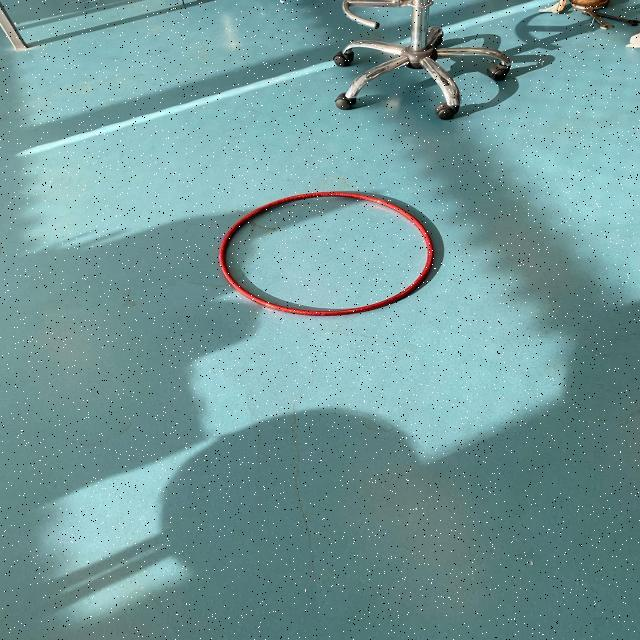Circle: (212, 186, 444, 320)
